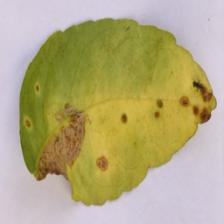black spot: (11, 89, 224, 170)
